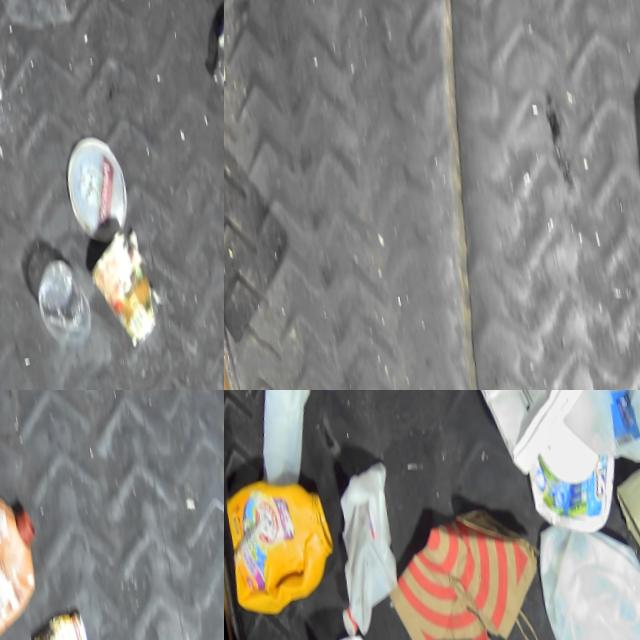can: (77, 234, 163, 354), (19, 611, 95, 640)
milk_jug: (317, 460, 402, 640), (530, 522, 640, 640), (562, 390, 640, 470)
non_white_jug: (224, 466, 330, 620), (0, 488, 58, 640)
plastic_bottle: (194, 11, 224, 93)
